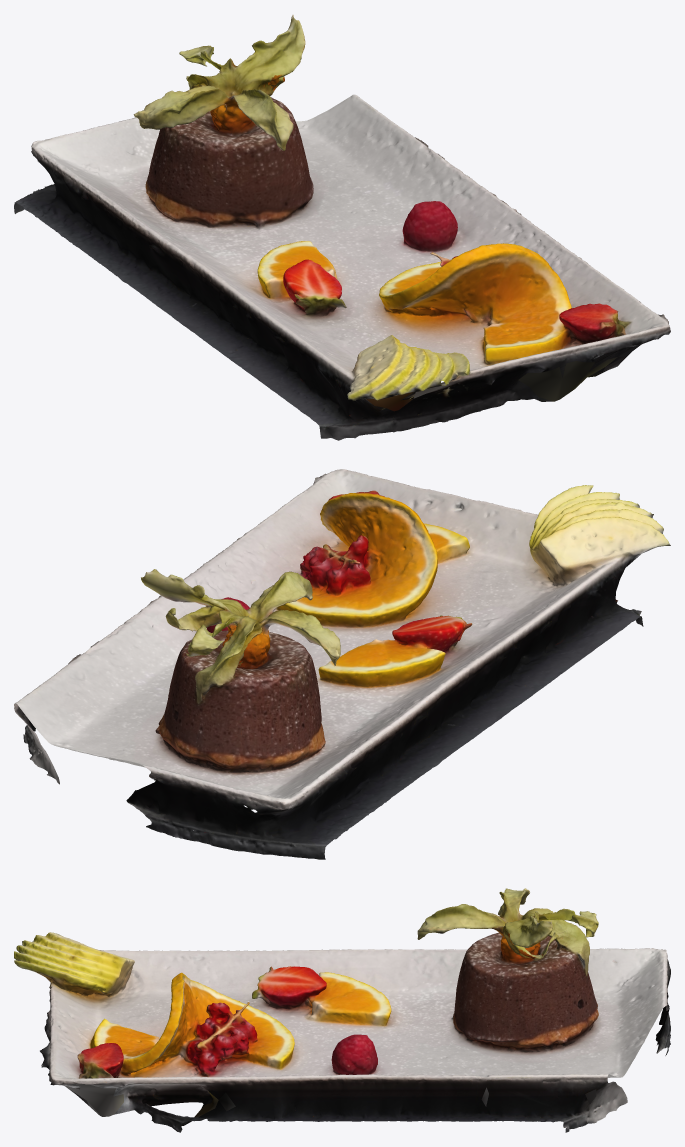
File: mifondant-mi-caramel.glb
The picture shows the model from 3 angles, top to bottom: view 1: azimuth 30°, elevation 25°; view 2: azimuth 150°, elevation 25°; view 3: azimuth 270°, elevation 25°; orthographic projection. The views are drawn at different scales.
Visible parts, largest first — view 1: Mifondant_mi_caramel; view 2: Mifondant_mi_caramel; view 3: Mifondant_mi_caramel.
Boxes of the visible parts, left/top/right/bottom form: Mifondant_mi_caramel: left=14, top=15, right=670, bottom=440; Mifondant_mi_caramel: left=14, top=469, right=670, bottom=859; Mifondant_mi_caramel: left=14, top=888, right=670, bottom=1132.
Size of the model in its own units: 0.2297 by 0.1202 by 0.4377.
Materials: 1 (1 with a texture image).
